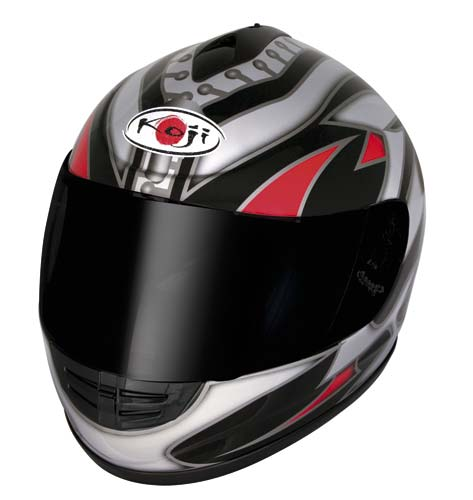helmet: (39, 52, 429, 464)
